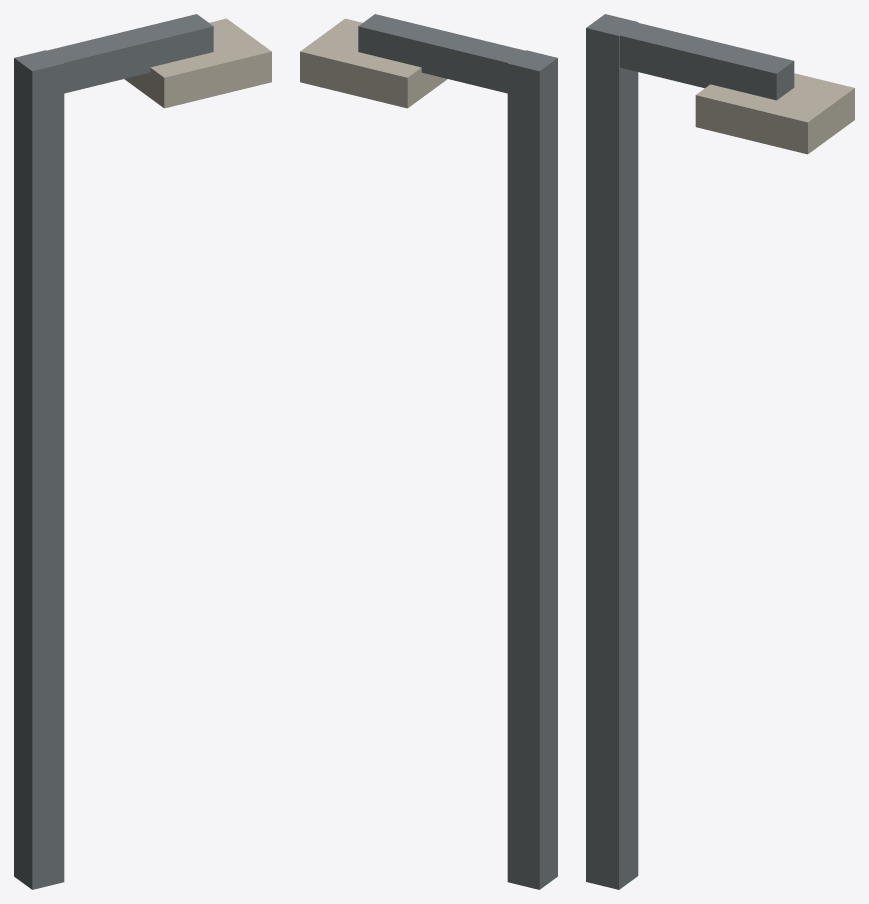
File: street_lamp.glb
3 renders of one model, left to right at view 1: azimuth 30°, elevation 25°; view 2: azimuth 150°, elevation 25°; view 3: azimuth 330°, elevation 25°, orthographic. The views are drawn at different scales.
Visible parts, largest first — view 1: body; view 2: body; view 3: body.
Boxes of the visible parts, x1,y1,x2,y2 form: body: (14, 14, 271, 889); body: (300, 14, 557, 889); body: (586, 14, 854, 889).
Bounding box in the file's own units: 0.925 × 3.2 × 0.32.
